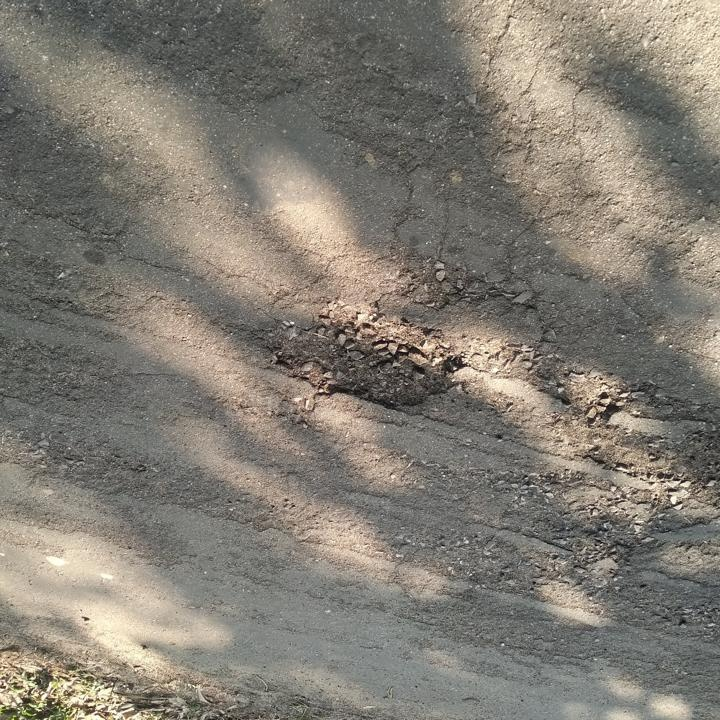pothole: (259, 309, 465, 415)
